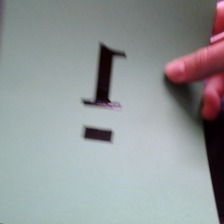green1: (74, 38, 136, 152)
